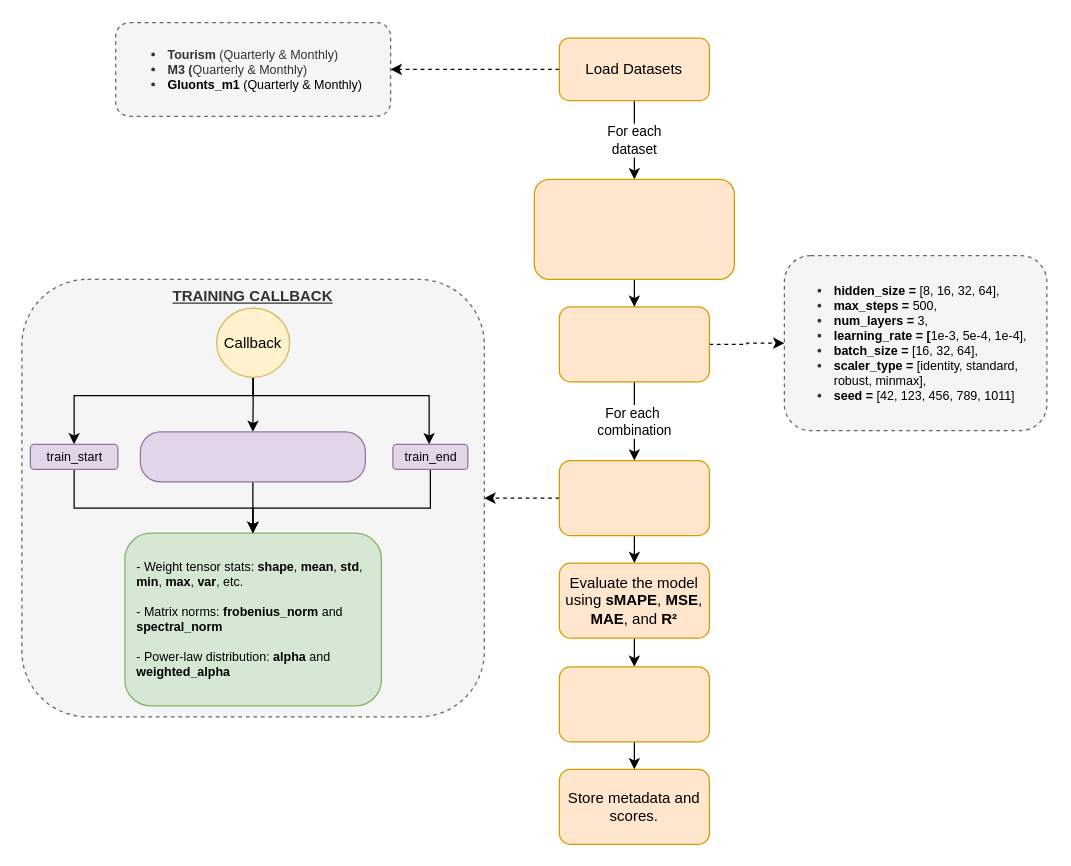
Some shapes in this 1071 by 866 pixel diagram are drawn without their labels. Here are the shapes that lost their labels. From the top down, the centre of each, then its label:
point 633,228: BASELINE MODEL Train Seasonal Naive and compute sMAPE
point 633,344: Generate hyperparameters combination
point 252,456: step_n n = [10, 50, 100, 200, 300, 400, 500]
point 633,497: Train a MLP model with custom Callback
point 633,704: Compare with the Seasonal Naive baseline.
